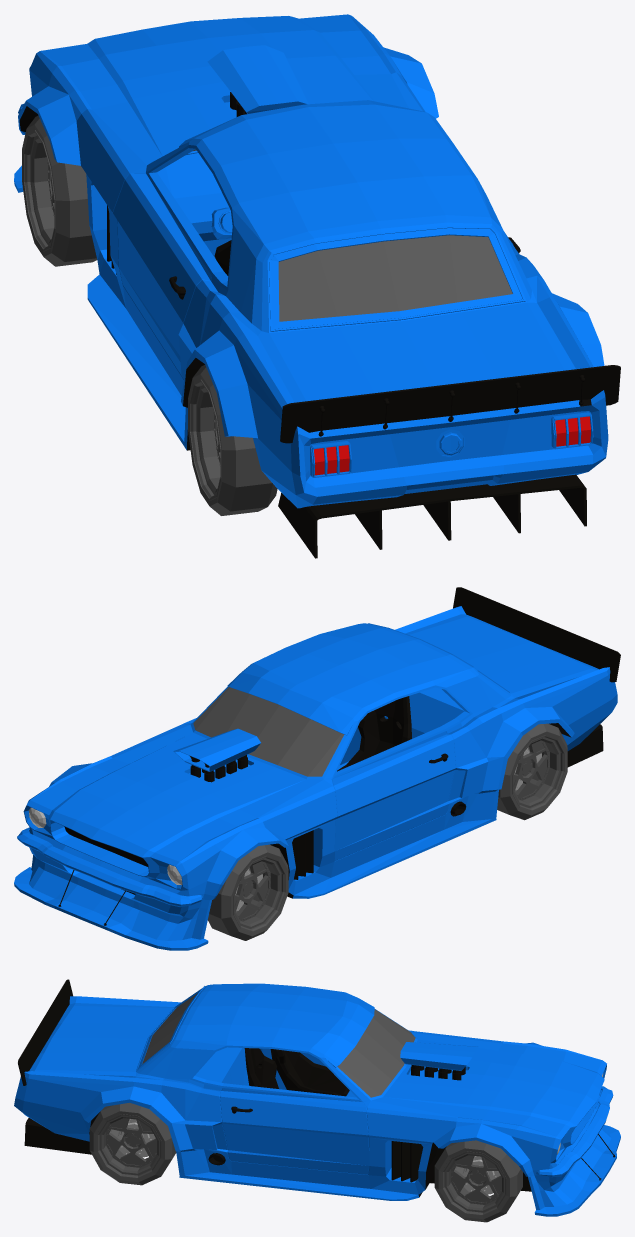
The model's file is mustang.glb.
3 views of the same model, one above another, from view 1: azimuth 30°, elevation 25°; view 2: azimuth 150°, elevation 25°; view 3: azimuth 270°, elevation 25° (orthographic). The views are drawn at different scales.
Visible parts, largest first — view 1: Body.002, Trim.001, Glass.002, Tires and wheels, BrakeLights.001; view 2: Body.002, Trim.001, Tires and wheels, Glass.002; view 3: Body.002, Tires and wheels, Trim.001, Glass.002, Disks.
Part boxes in pixels (x1,y1,x2,y2): Body.002: (14, 14, 608, 508); Trim.001: (19, 92, 620, 558); Glass.002: (193, 149, 512, 321); Tires and wheels: (22, 115, 277, 515); BrakeLights.001: (314, 416, 590, 475); Body.002: (14, 606, 617, 950); Trim.001: (58, 587, 620, 925); Tires and wheels: (208, 723, 567, 940); Glass.002: (193, 687, 344, 776); Body.002: (14, 983, 620, 1216); Tires and wheels: (89, 1102, 522, 1222); Trim.001: (18, 979, 615, 1197); Glass.002: (142, 993, 415, 1097); Disks: (110, 1119, 500, 1194).
Size of the model in its own units: 21.83 by 10.16 by 38.89.
